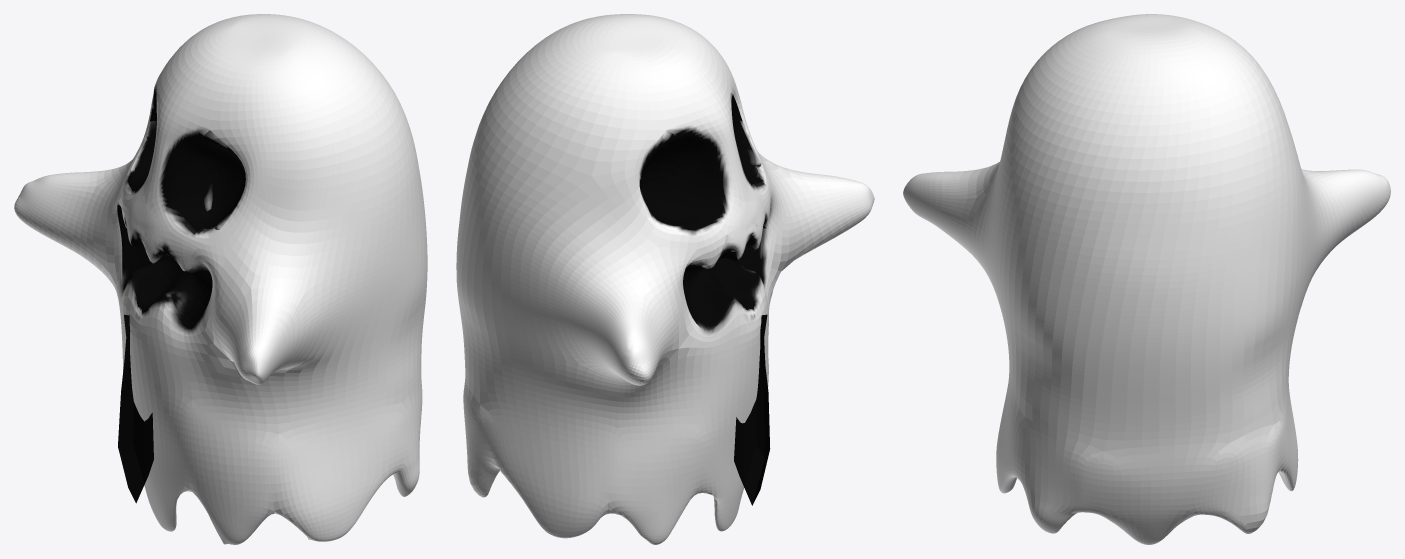
Rendered from fantasma.fbx.
3 renders of one model, left to right at view 1: azimuth 30°, elevation 25°; view 2: azimuth 150°, elevation 25°; view 3: azimuth 270°, elevation 25°, orthographic. The views are drawn at different scales.
Visible parts, largest first — view 1: RetopoFlow, Cube; view 2: RetopoFlow, Cube; view 3: RetopoFlow.
Boxes of the visible parts, bbox=[...] form: RetopoFlow: bbox=[14, 14, 427, 544]; Cube: bbox=[118, 314, 153, 503]; RetopoFlow: bbox=[456, 14, 874, 544]; Cube: bbox=[734, 314, 770, 505]; RetopoFlow: bbox=[903, 14, 1390, 544].
Bounding box in the file's own units: 244 × 388 × 357.
Materials: 1 (1 with a texture image).
